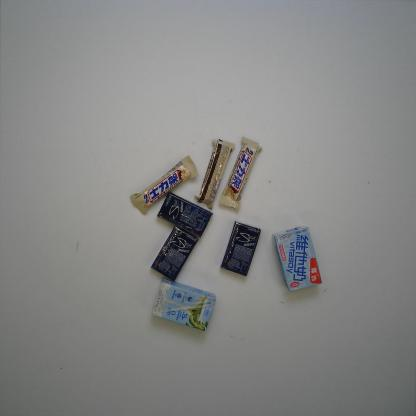Chocolate: (130, 154, 199, 216), (218, 136, 263, 211), (195, 139, 236, 210)
Gum: (156, 191, 214, 239), (150, 224, 198, 282), (220, 221, 261, 277)
Milk: (151, 277, 216, 332), (272, 226, 322, 291)
